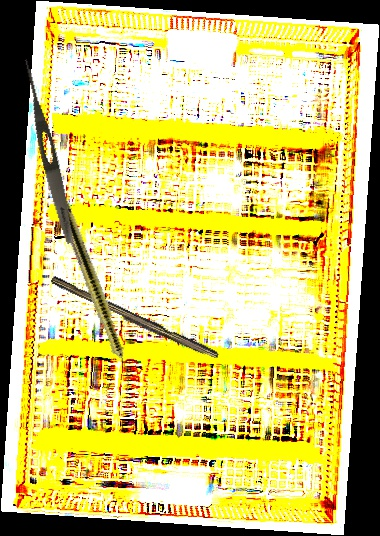Dressing Forceps: (16, 57, 79, 246)
Handpiece: (46, 181, 141, 395)
Scalpel Handle: (48, 275, 221, 363)
